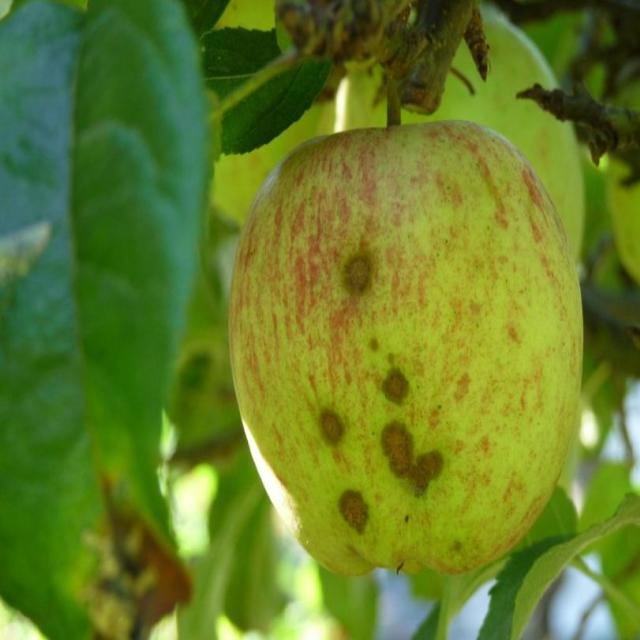Rotten Apple: (228, 92, 597, 597)
